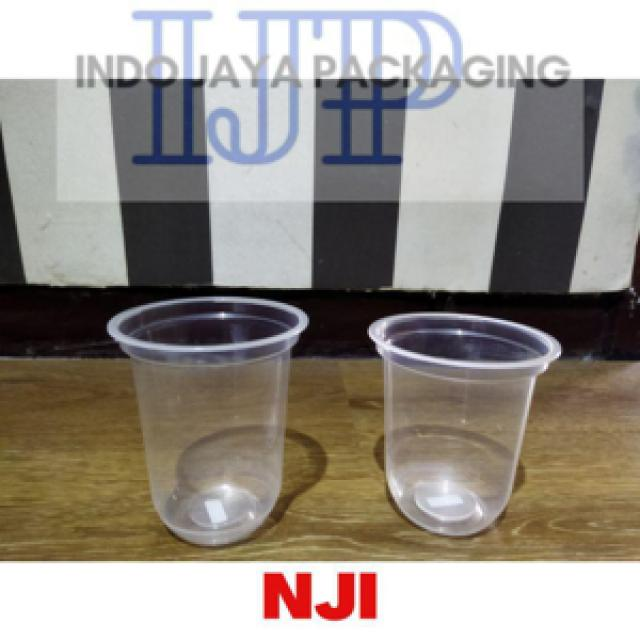plastic cup: (104, 290, 314, 551), (363, 303, 565, 542)
